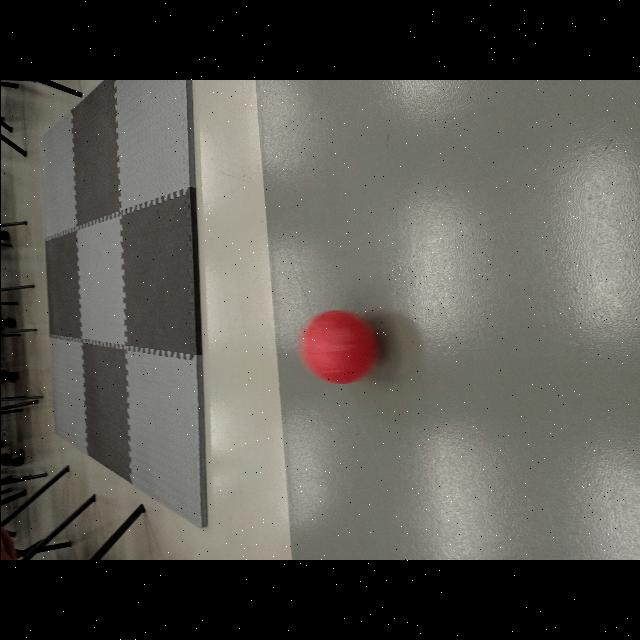R: (297, 307, 383, 389)
